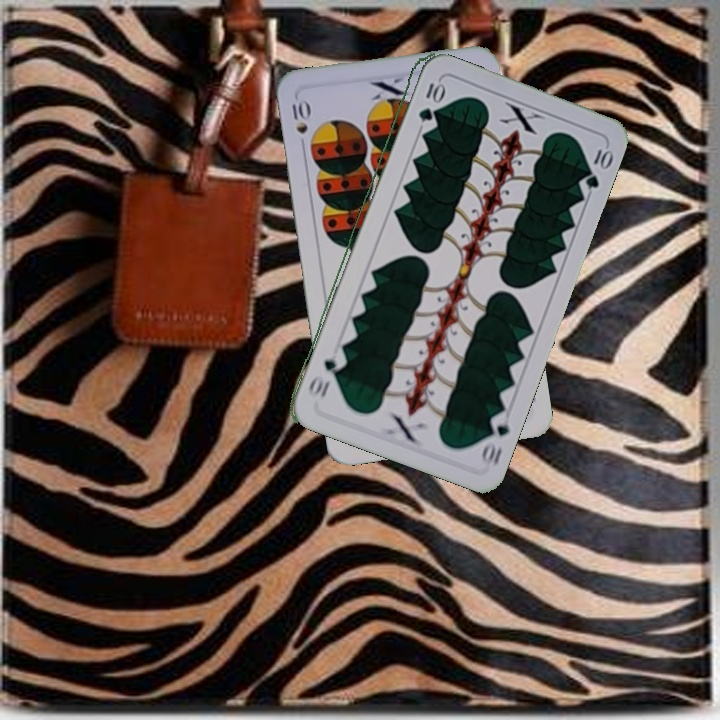G10: (477, 409, 512, 468), (414, 78, 443, 125)
S10: (288, 95, 311, 153)
